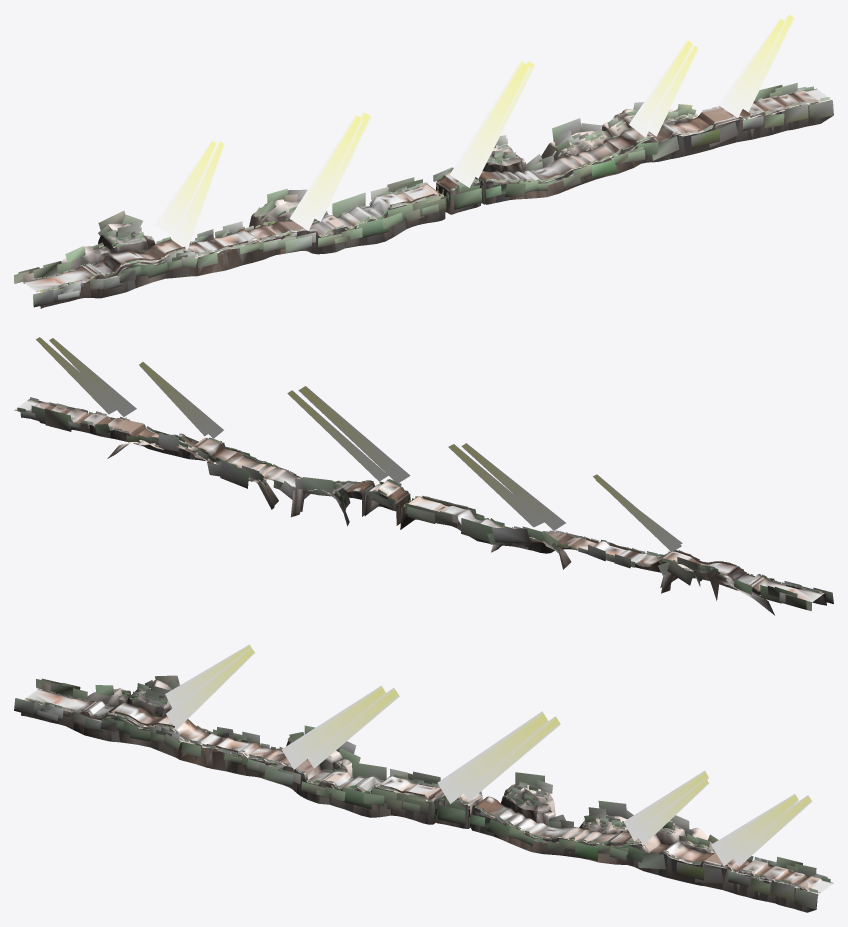
The model's file is Forest_12.fbx.
The picture shows the model from 3 angles, top to bottom: view 1: azimuth 30°, elevation 25°; view 2: azimuth 150°, elevation 25°; view 3: azimuth 330°, elevation 25°; orthographic projection.
Parts seen in each view (by area): view 1: Tree_01, Light_01, Mountain_01, Ground_01; view 2: Tree_01, Light_01, Ground_01, Mountain_01; view 3: Tree_01, Light_01, Mountain_01, Ground_01.
Boxes of the visible parts, box(x1,y1,x2,y2) form: Tree_01: box(14, 82, 833, 307); Light_01: box(154, 14, 794, 249); Mountain_01: box(37, 98, 833, 308); Ground_01: box(23, 88, 827, 291); Tree_01: box(17, 397, 833, 611); Light_01: box(36, 337, 682, 551); Ground_01: box(14, 400, 822, 602); Mountain_01: box(28, 399, 826, 615); Tree_01: box(14, 675, 830, 909); Light_01: box(165, 644, 811, 866); Mountain_01: box(21, 680, 819, 912); Ground_01: box(25, 689, 833, 892).
Bounding box in the file's own units: 49371 × 7699 × 4161.
